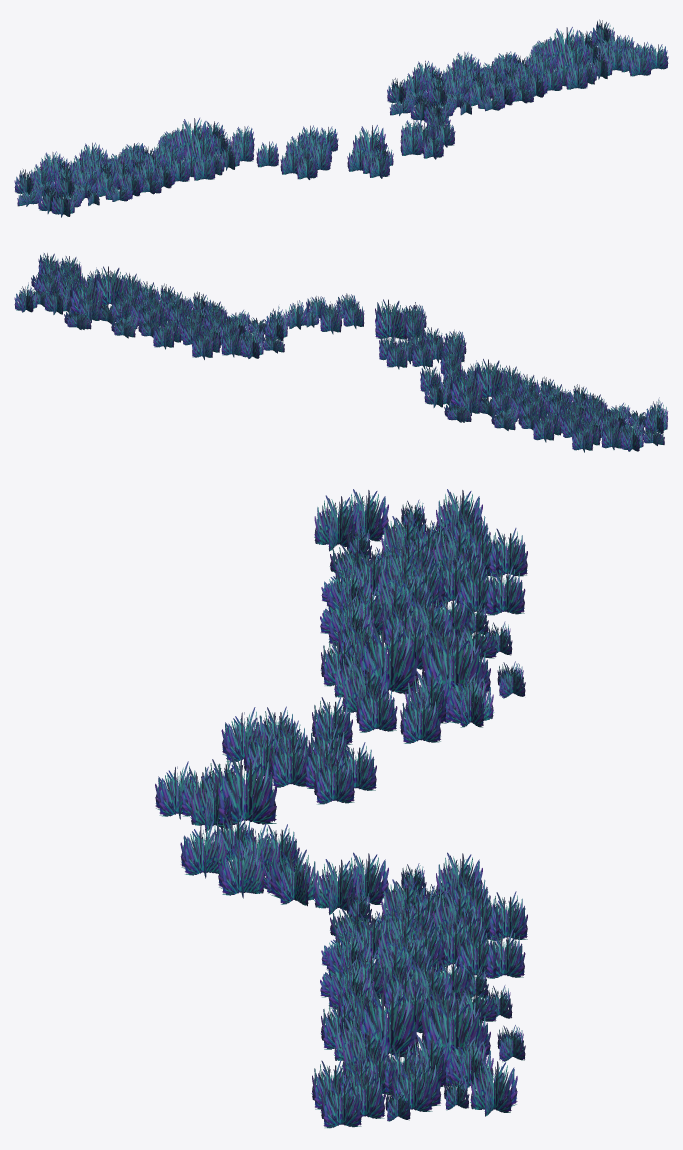
Rendered from Crossing_Grass.fbx.
3 renders of one model, top to bottom at view 1: azimuth 30°, elevation 25°; view 2: azimuth 150°, elevation 25°; view 3: azimuth 270°, elevation 25°, orthographic. The views are drawn at different scales.
Visible parts, largest first — view 1: polySurface283, polySurface85, polySurface259, polySurface61, polySurface7; view 2: polySurface7, polySurface259, polySurface61, polySurface283, polySurface85, polySurface5, polySurface59, polySurface83, polySurface257, polySurface281; view 3: polySurface5, polySurface59, polySurface257, polySurface281, polySurface83, polySurface6, polySurface60, polySurface258, polySurface84, polySurface282, polySurface55, polySurface475 (+11 smaller).
Part boxes in pixels (bbox=[...]): polySurface283: bbox=[549, 27, 580, 59]; polySurface85: bbox=[176, 118, 207, 149]; polySurface259: bbox=[558, 40, 588, 72]; polySurface61: bbox=[185, 131, 216, 163]; polySurface7: bbox=[354, 125, 385, 156]; polySurface7: bbox=[375, 299, 406, 339]; polySurface259: bbox=[95, 266, 126, 303]; polySurface61: bbox=[475, 359, 506, 395]; polySurface283: bbox=[70, 276, 102, 311]; polySurface85: bbox=[450, 369, 482, 404]; polySurface5: bbox=[375, 302, 406, 338]; polySurface59: bbox=[475, 362, 506, 398]; polySurface83: bbox=[450, 372, 482, 407]; polySurface257: bbox=[95, 269, 126, 305]; polySurface281: bbox=[70, 279, 102, 314]; polySurface5: bbox=[215, 752, 276, 824]; polySurface59: bbox=[356, 621, 418, 694]; polySurface257: bbox=[356, 985, 418, 1057]; polySurface281: bbox=[421, 992, 483, 1053]; polySurface83: bbox=[421, 629, 483, 689]; polySurface6: bbox=[218, 751, 271, 825]; polySurface60: bbox=[360, 620, 413, 688]; polySurface258: bbox=[360, 984, 413, 1052]; polySurface84: bbox=[425, 627, 478, 693]; polySurface282: bbox=[425, 991, 478, 1056]; polySurface55: bbox=[270, 849, 317, 900]; polySurface475: bbox=[470, 1060, 517, 1109].
Bounding box in the file's own units: 97.55 × 5.87 × 25.01.
1 material, 1 textured.
